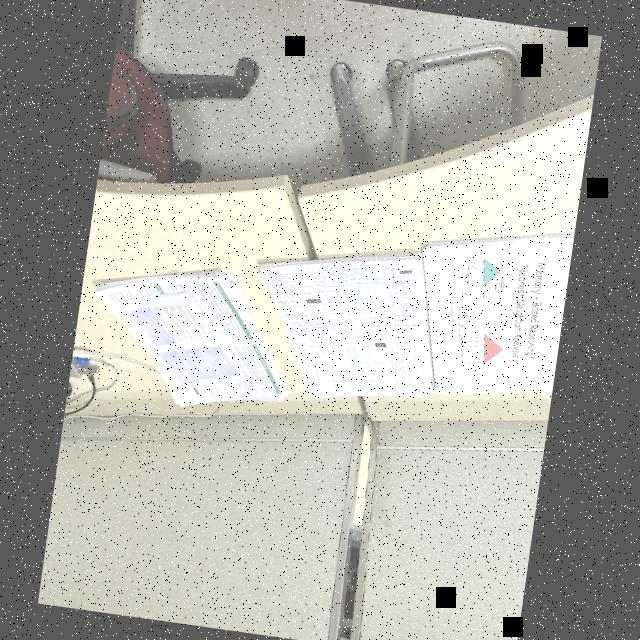reuseable_paper: (243, 182, 576, 435), (76, 255, 306, 432)
